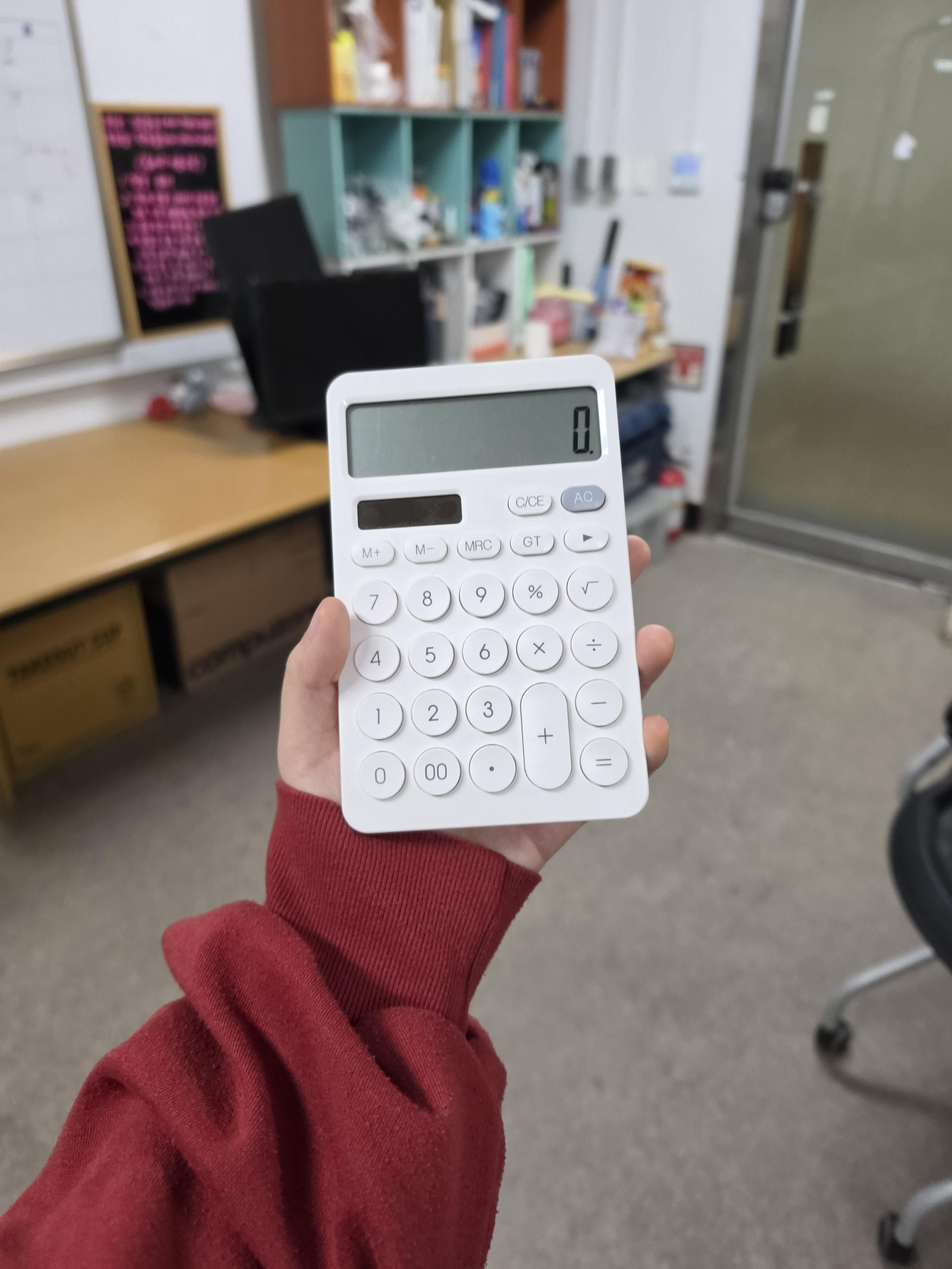calculator: (326, 354, 650, 835)
